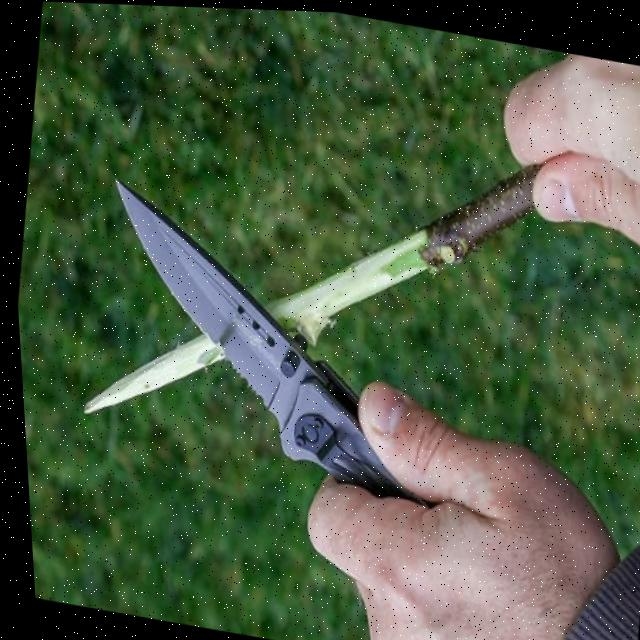knife: (78, 150, 416, 503)
